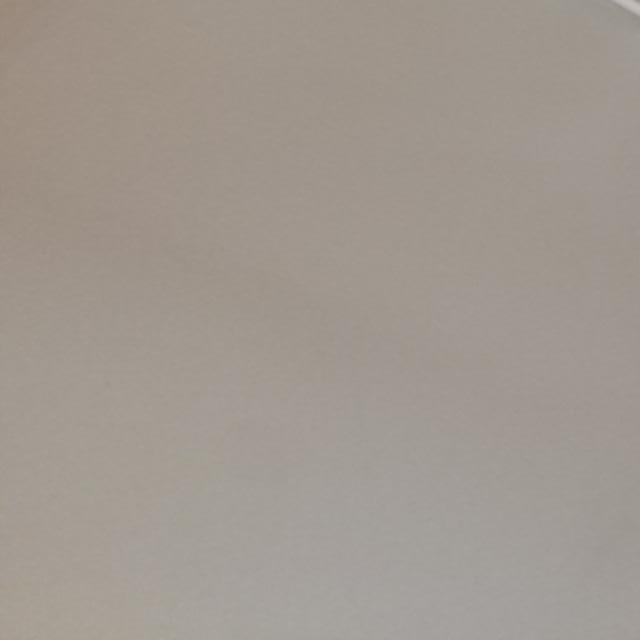fluorescent tube: (49, 0, 640, 319)
